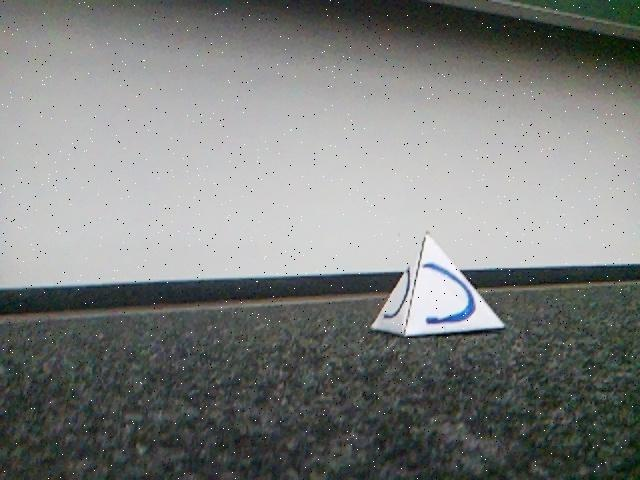C: (372, 233, 504, 338)
